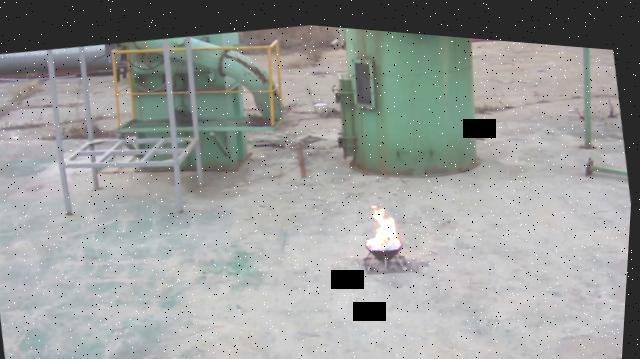fire: (370, 193, 405, 241)
